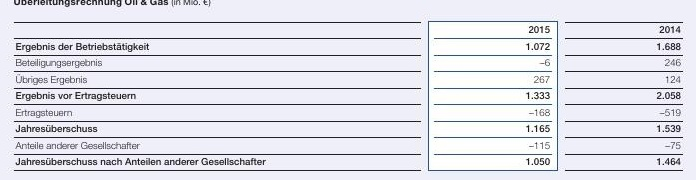table: (0, 0, 696, 180)
